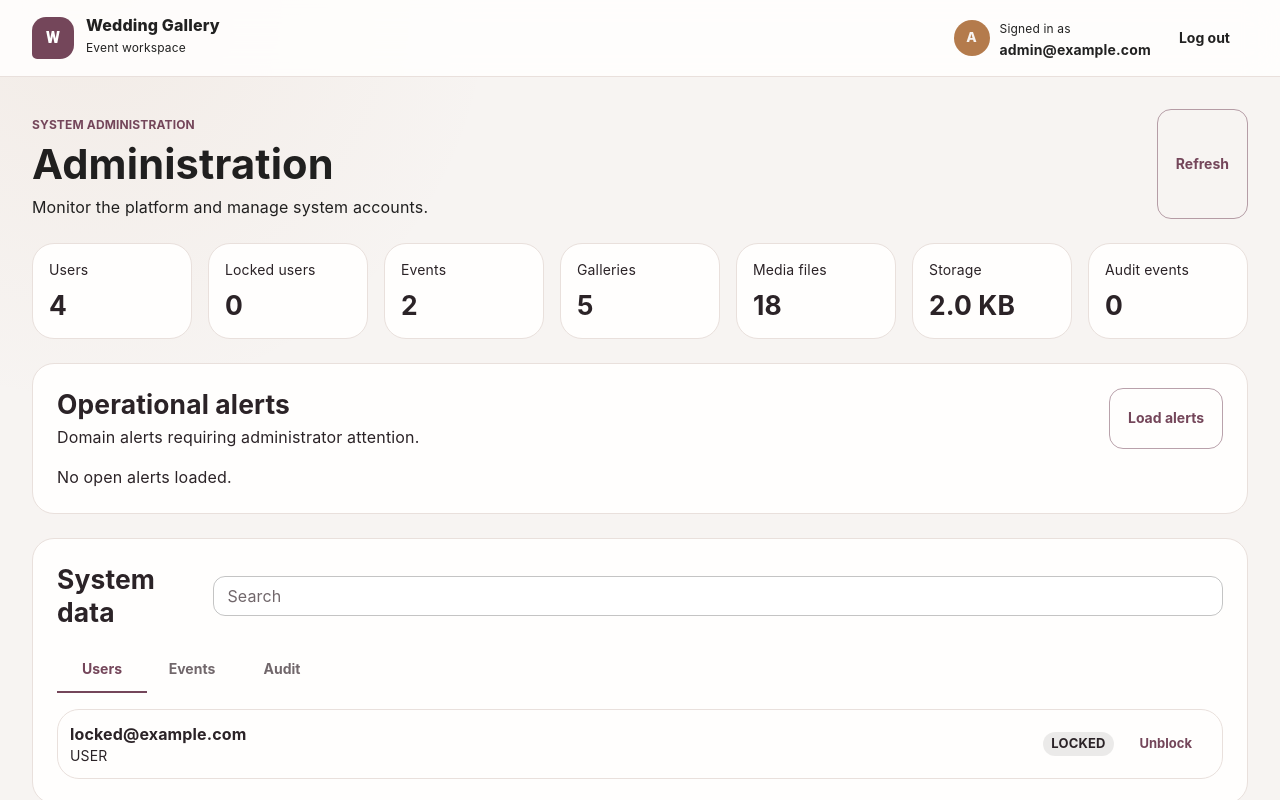
it: AdminDashboard › unblocks a locked user and surfaces mutation errors without closing confirmation
Expected: the text "locked@example.com" is shown, top-left (70, 722), bottom-right (246, 746)
Click the button "Unblock" at (1166, 744), box top-left (1122, 722), bottom-right (1210, 766)
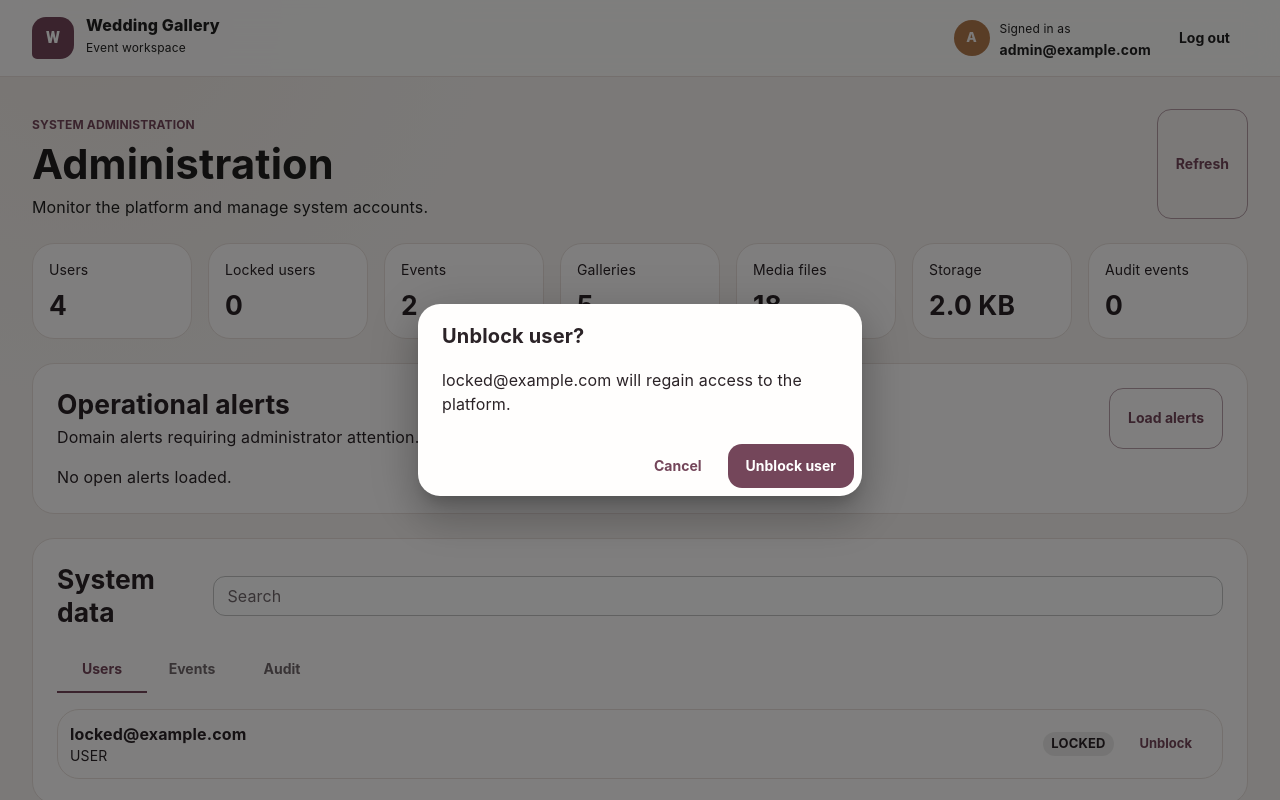
Click the button "Unblock user" at (791, 466), box top-left (728, 444), bottom-right (854, 488)
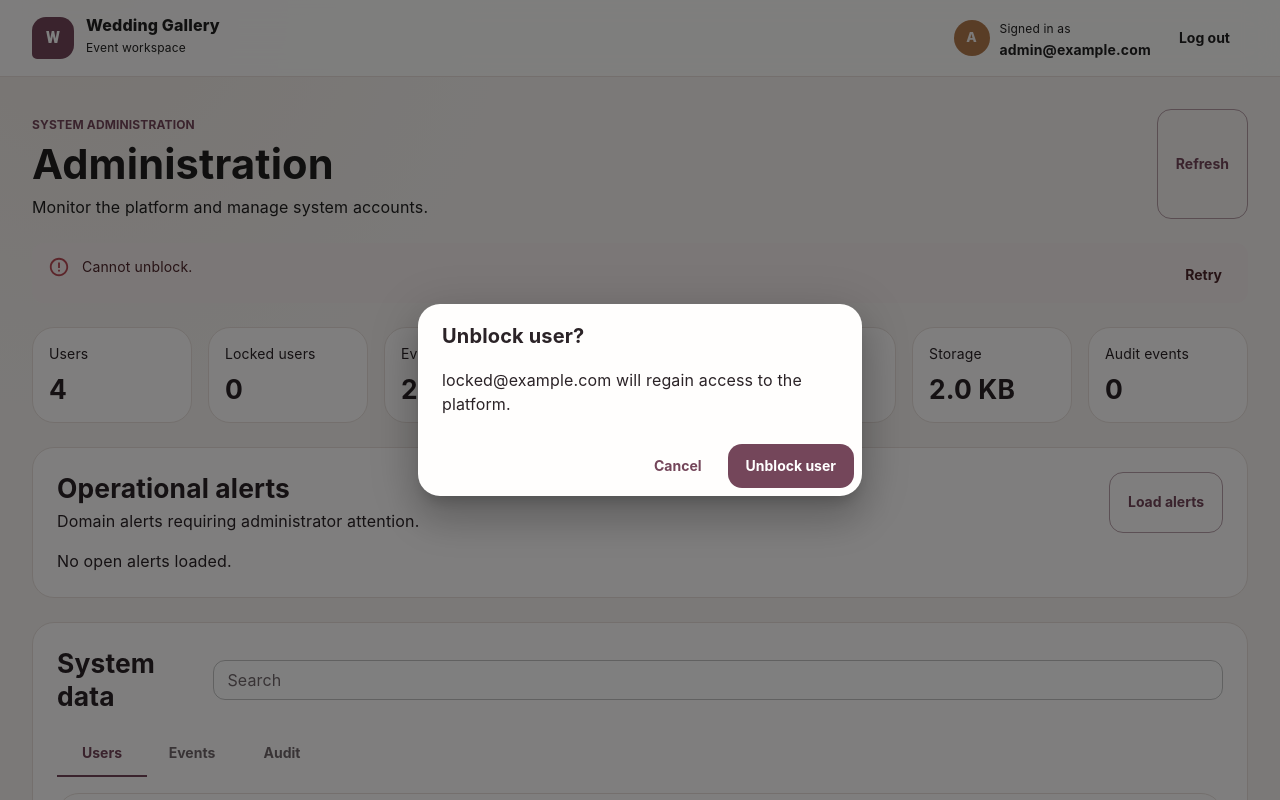
Expected: the dialog is shown, top-left (418, 304), bottom-right (862, 496)
Expected: the text "Cannot unblock." is shown, top-left (82, 258), bottom-right (192, 276)
